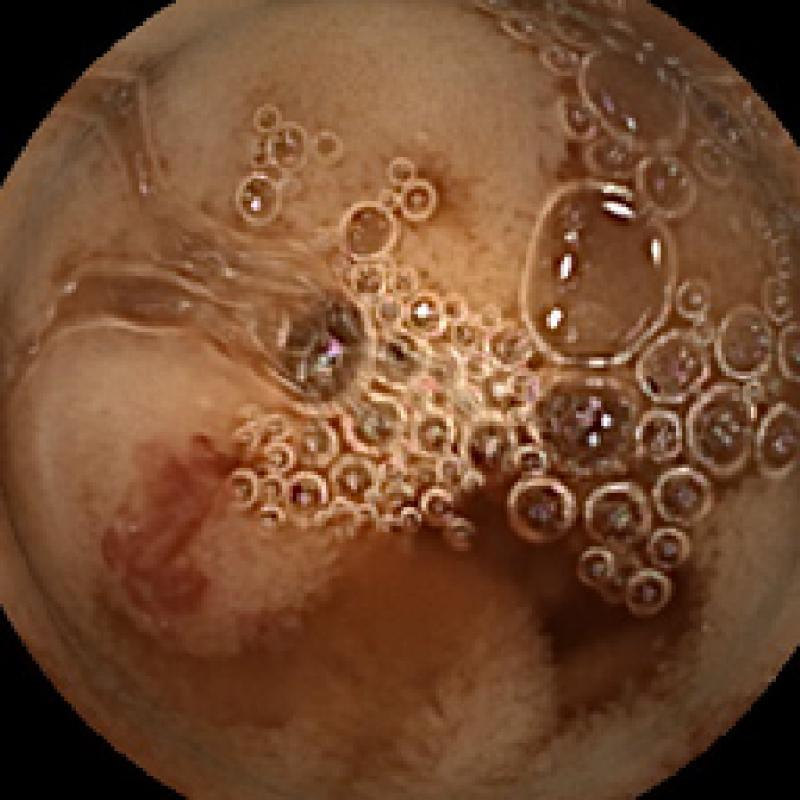bleeding: (82, 428, 247, 628)
